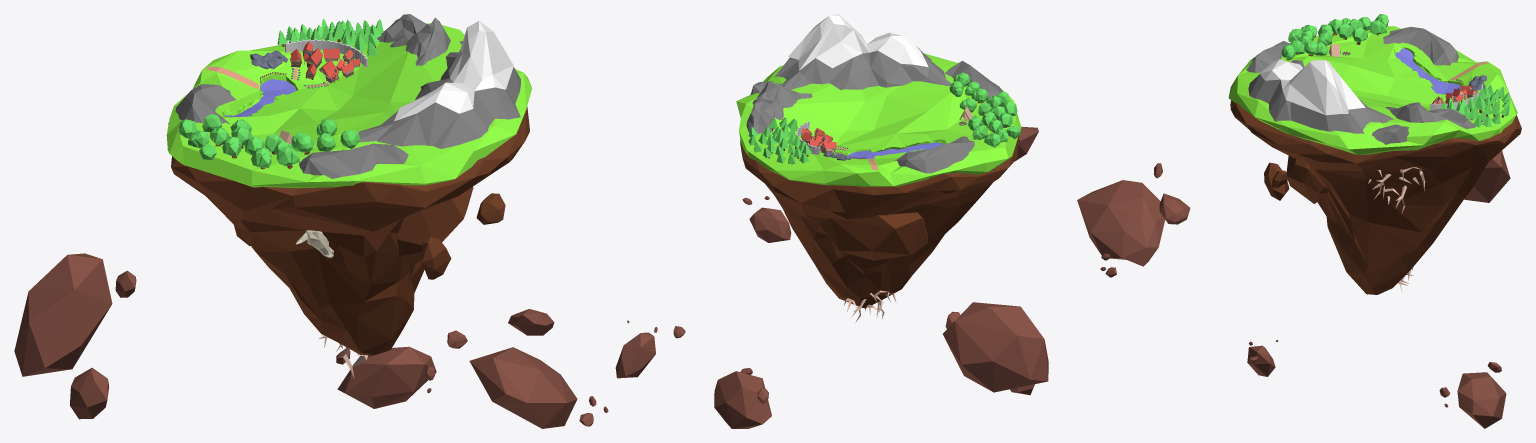
File: Scenery.fbx
The picture shows the model from 3 angles, left to right: view 1: azimuth 30°, elevation 25°; view 2: azimuth 150°, elevation 25°; view 3: azimuth 270°, elevation 25°; orthographic projection. The views are drawn at different scales.
Parts seen in each view (by area): view 1: Map_High.001, Map_High.002, Asteroid.002, Map_High.006, Asteroid.001, Map_High.007, Asteroid.003, Rock, Map_High.012, Map_High.008, Asteroid.046, Map_High.011 (+6 smaller); view 2: Map_High.002, Map_High.001, Asteroid.002, Map_High.006, Rock_2, Map_High.007, Asteroid.003, Map_High.008, Map_High.011, Asteroid.013, Map_High.012, Map_High.009 (+2 smaller); view 3: Map_High.001, Map_High.002, Asteroid.001, Map_High.007, Map_High.006, Asteroid.003, Map_High.011, Asteroid.002, Map_High.008, Rock, Map_High.009, Asteroid.007 (+5 smaller).
Part boxes in pixels (box(x1,y1,x2,y2)): Map_High.001: box(168, 106, 529, 357); Map_High.002: box(166, 23, 532, 188); Asteroid.002: box(14, 253, 112, 376); Map_High.006: box(358, 52, 520, 148); Asteroid.001: box(469, 347, 577, 428); Map_High.007: box(394, 21, 513, 121); Asteroid.003: box(337, 346, 436, 408); Rock: box(397, 187, 473, 263); Map_High.012: box(299, 143, 408, 178); Map_High.008: box(377, 14, 450, 65); Asteroid.046: box(70, 368, 109, 419); Map_High.011: box(175, 84, 236, 124); Map_High.002: box(736, 53, 1021, 186); Map_High.001: box(740, 136, 1019, 308); Asteroid.002: box(943, 302, 1048, 392); Map_High.006: box(774, 46, 951, 89); Rock_2: box(819, 212, 927, 260); Map_High.007: box(788, 14, 928, 70); Asteroid.003: box(714, 371, 771, 428); Map_High.008: box(746, 82, 812, 133); Map_High.011: box(895, 136, 974, 173); Asteroid.013: box(749, 207, 791, 242); Map_High.012: box(944, 60, 1002, 100); Map_High.009: box(847, 142, 942, 158); Map_High.001: box(1230, 100, 1521, 294); Map_High.002: box(1228, 26, 1517, 154); Asteroid.001: box(1077, 180, 1164, 266); Map_High.007: box(1260, 59, 1365, 115); Map_High.006: box(1248, 60, 1393, 133); Asteroid.003: box(1457, 372, 1506, 428); Map_High.011: box(1383, 26, 1458, 65); Asteroid.002: box(1464, 151, 1510, 202); Map_High.008: box(1385, 102, 1475, 128); Rock: box(1286, 156, 1327, 203); Map_High.009: box(1395, 48, 1460, 94); Asteroid.007: box(1159, 193, 1190, 224).
Bounding box in the file's own units: 10.23 × 8.56 × 9.65.
